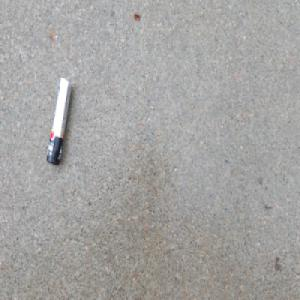Battery: (44, 76, 72, 167)
